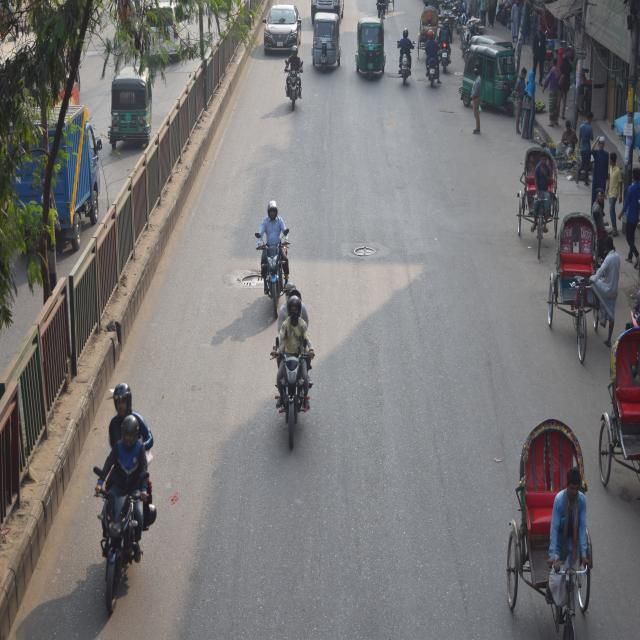car: (258, 0, 302, 47)
motorbike: (90, 431, 156, 630), (268, 319, 326, 452), (254, 214, 291, 311), (418, 27, 443, 92), (394, 27, 415, 83), (282, 50, 302, 108), (440, 27, 455, 79)
pickup-van: (12, 106, 107, 262)
